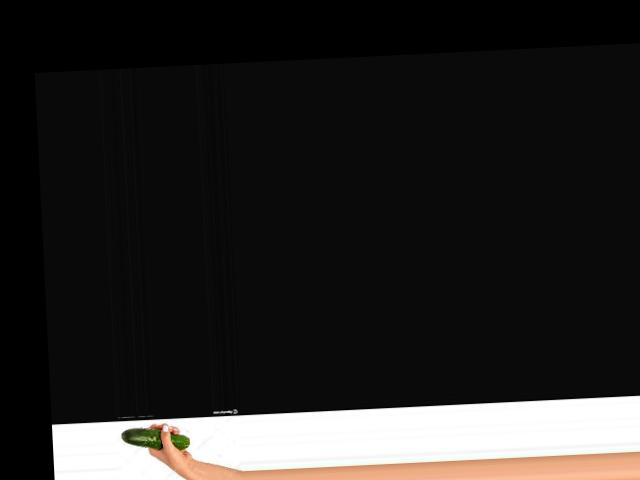cucumber: (120, 425, 189, 452)
